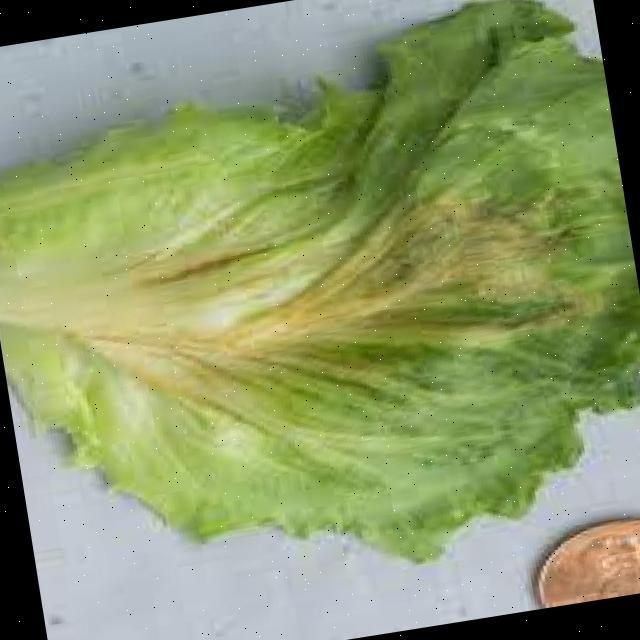Downy_Mildew: (96, 121, 621, 458)
